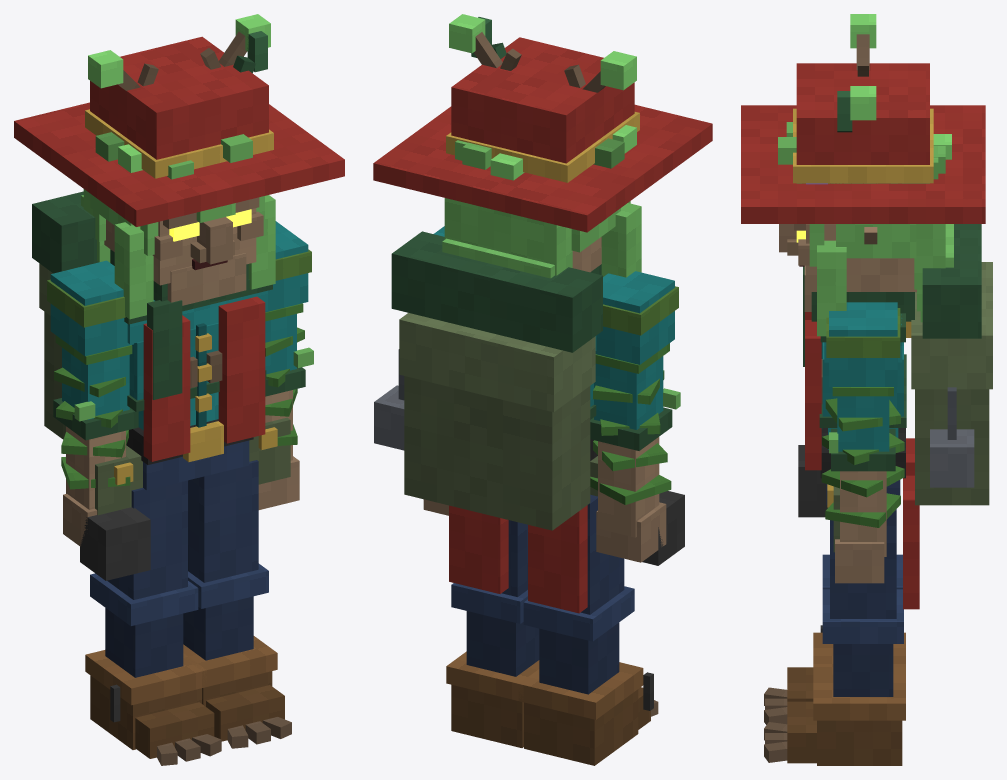
File: dryad_marchand.glb
The picture shows the model from 3 angles, left to right: view 1: azimuth 30°, elevation 25°; view 2: azimuth 150°, elevation 25°; view 3: azimuth 270°, elevation 25°; orthographic projection. The views are drawn at different scales.
Parts seen in each view (by area): view 1: Head, Torso, LegR, LegL, ArmR, ArmL, HandR, Root; view 2: Torso, Head, ArmR, LegR, LegL, HandR; view 3: Head, Torso, ArmL, LegL, LegR, Root, HandR.
Boxes of the visible parts, box(x1,y1,x2,y2) form: Head: box(14, 14, 344, 319); Torso: box(32, 191, 290, 515); LegR: box(85, 480, 214, 758); LegL: box(183, 460, 284, 741); ArmR: box(47, 260, 138, 546); ArmL: box(258, 221, 313, 509); HandR: box(80, 507, 150, 722); Root: box(157, 717, 291, 765); Torso: box(374, 231, 602, 613); Head: box(373, 14, 712, 278); ArmR: box(590, 271, 680, 562); LegR: box(518, 494, 650, 765); LegL: box(446, 520, 539, 747); HandR: box(642, 491, 684, 710); Head: box(741, 14, 985, 336); Torso: box(803, 224, 992, 609); ArmL: box(821, 302, 904, 583); LegL: box(787, 509, 905, 765); LegR: box(787, 554, 905, 701); Root: box(764, 687, 787, 762); HandR: box(798, 445, 827, 632).
Bounding box in the file's own units: 0.7466 × 2.02 × 0.68.
43 materials, 43 textured.
